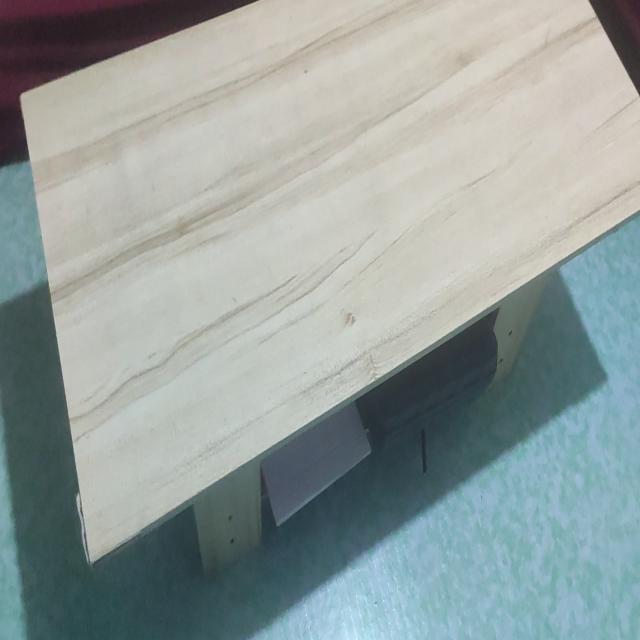table: (15, 0, 640, 577)
